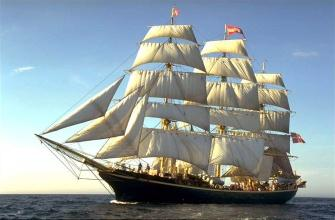fanchuan: (24, 14, 310, 202)
